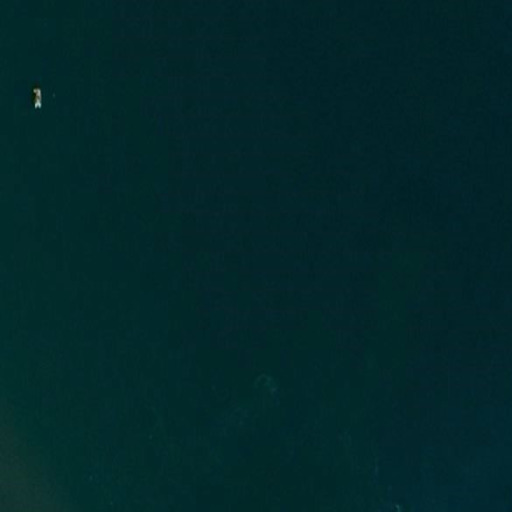ship: (30, 86, 44, 111)
